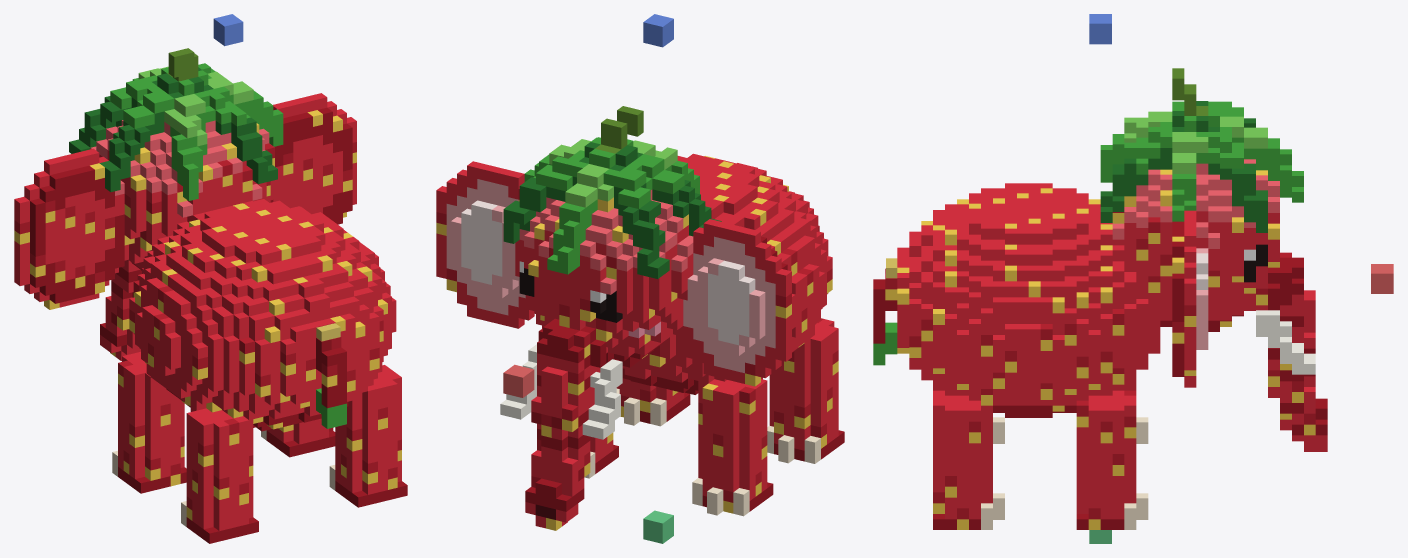
The model's file is StrawberryElephant.glb.
3 views of the same model, side by side, from view 1: azimuth 30°, elevation 25°; view 2: azimuth 150°, elevation 25°; view 3: azimuth 270°, elevation 25° (orthographic). The views are drawn at different scales.
Visible parts, largest first — view 1: StrawberryElephant_Head6, StrawberryElephant_Body, StrawberryElephant_Leg4, StrawberryElephant_Leg2, StrawberryElephant_Leg3, StrawberryElephant_Tail5, StrawberryElephant_Leg1, StrawberryElephant_Top; view 2: StrawberryElephant_Head6, StrawberryElephant_Body, StrawberryElephant_Leg2, StrawberryElephant_Leg4, StrawberryElephant_Leg3, StrawberryElephant_Front, StrawberryElephant_Leg1, StrawberryElephant_Built, StrawberryElephant_Top; view 3: StrawberryElephant_Body, StrawberryElephant_Head6, StrawberryElephant_Leg1, StrawberryElephant_Leg3, StrawberryElephant_Tail5, StrawberryElephant_Top, StrawberryElephant_Front.
Boxes of the visible parts, <box> form: StrawberryElephant_Head6: <box>14,48,356,360</box>; StrawberryElephant_Body: <box>129,199,396,431</box>; StrawberryElephant_Leg4: <box>181,407,258,543</box>; StrawberryElephant_Leg2: <box>112,351,186,493</box>; StrawberryElephant_Leg3: <box>329,365,407,507</box>; StrawberryElephant_Tail5: <box>316,337,346,428</box>; StrawberryElephant_Leg1: <box>261,418,335,457</box>; StrawberryElephant_Top: <box>213,14,243,46</box>; StrawberryElephant_Head6: <box>436,106,791,530</box>; StrawberryElephant_Body: <box>622,153,832,394</box>; StrawberryElephant_Leg2: <box>692,377,773,516</box>; StrawberryElephant_Leg4: <box>767,318,844,463</box>; StrawberryElephant_Leg3: <box>616,378,690,426</box>; StrawberryElephant_Front: <box>503,364,534,397</box>; StrawberryElephant_Leg1: <box>584,432,618,478</box>; StrawberryElephant_Built: <box>643,510,673,543</box>; StrawberryElephant_Top: <box>643,14,673,47</box>; StrawberryElephant_Body: <box>897,183,1160,417</box>; StrawberryElephant_Head6: <box>1100,68,1327,451</box>; StrawberryElephant_Leg1: <box>1076,390,1148,529</box>; StrawberryElephant_Leg3: <box>933,390,1004,529</box>; StrawberryElephant_Tail5: <box>873,268,897,365</box>; StrawberryElephant_Top: <box>1089,14,1111,44</box>; StrawberryElephant_Front: <box>1371,264,1393,293</box>.
Size of the model in its own units: 4.47 by 6.32 by 5.72.
1 material, 1 textured.
